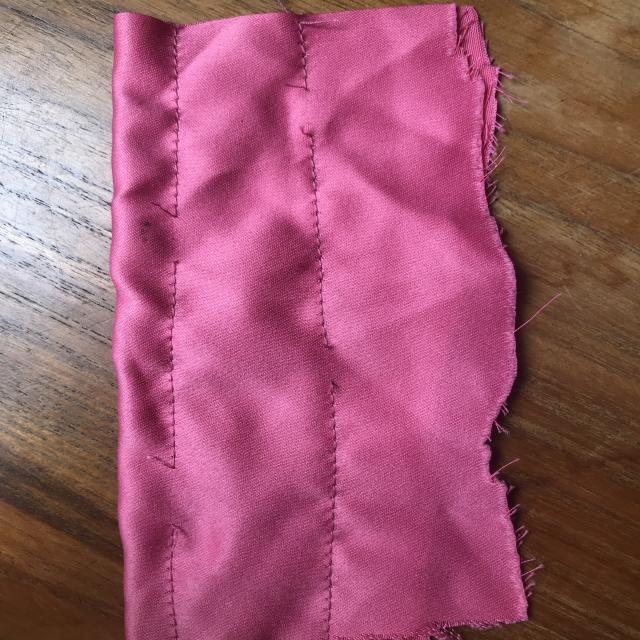broken: (139, 444, 218, 550), (140, 180, 216, 282), (270, 72, 338, 144), (307, 323, 367, 400)
good: (296, 183, 352, 282), (314, 468, 351, 572)
